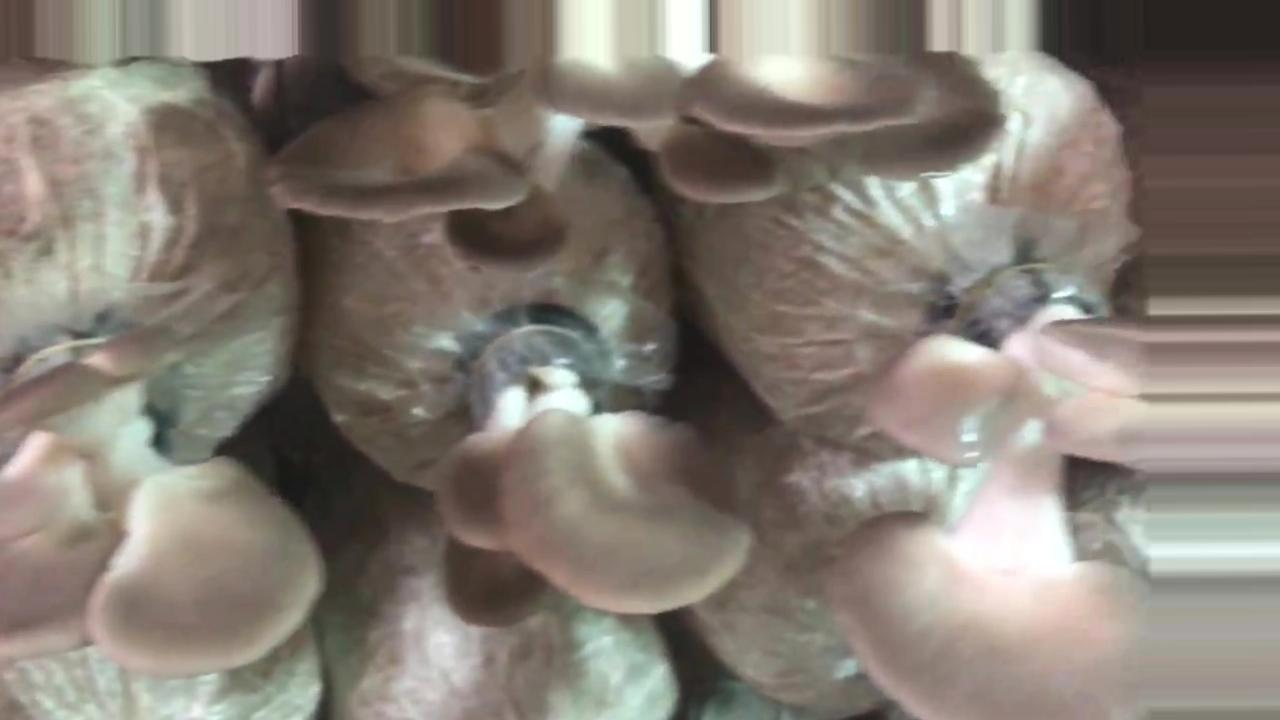nam: (827, 268, 1139, 720), (261, 43, 1014, 227), (1, 318, 338, 675), (435, 307, 759, 632)
